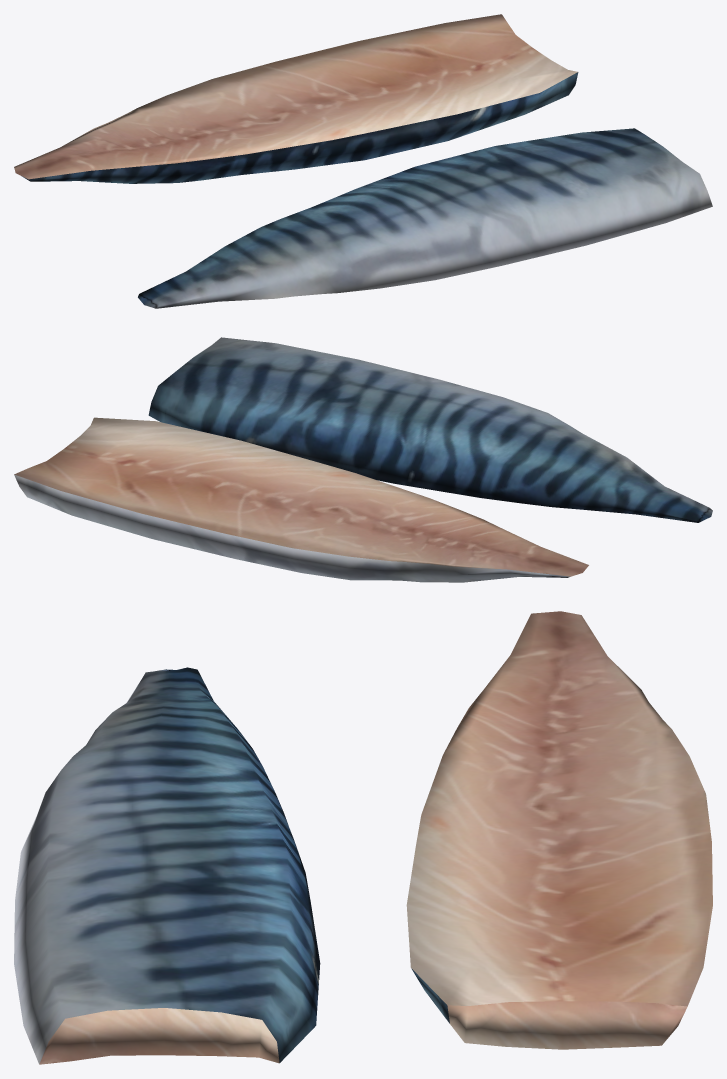
Rendered from uskumru_balık_dilimlenmis.fbx.
The picture shows the model from 3 angles, top to bottom: view 1: azimuth 30°, elevation 25°; view 2: azimuth 150°, elevation 25°; view 3: azimuth 270°, elevation 25°; orthographic projection. The views are drawn at different scales.
Parts seen in each view (by area): view 1: uskumru_kesilmis_toplu; view 2: uskumru_kesilmis_toplu; view 3: uskumru_kesilmis_toplu.
Part boxes in pixels (x1,y1,x2,y2): uskumru_kesilmis_toplu: (14,14,712,308); uskumru_kesilmis_toplu: (14,337,712,582); uskumru_kesilmis_toplu: (14,611,712,1064).
Size of the model in its own units: 63.23 by 5.21 by 47.25.
Materials: 1 (1 with a texture image).
